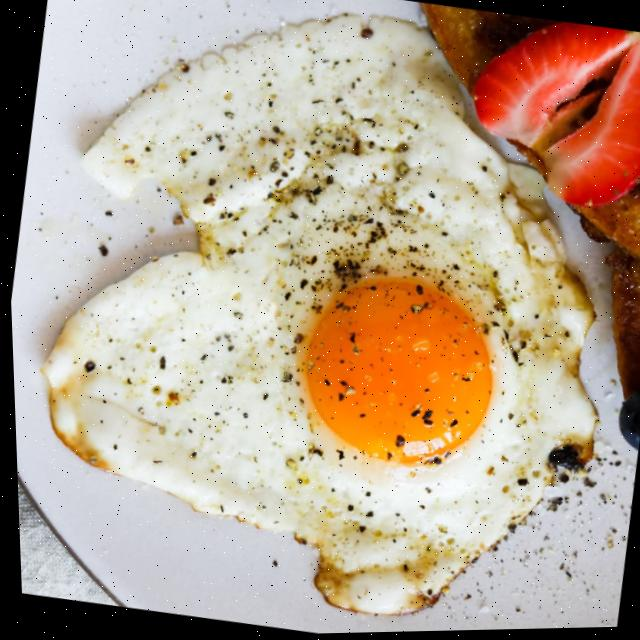Egg: (40, 18, 592, 617)
